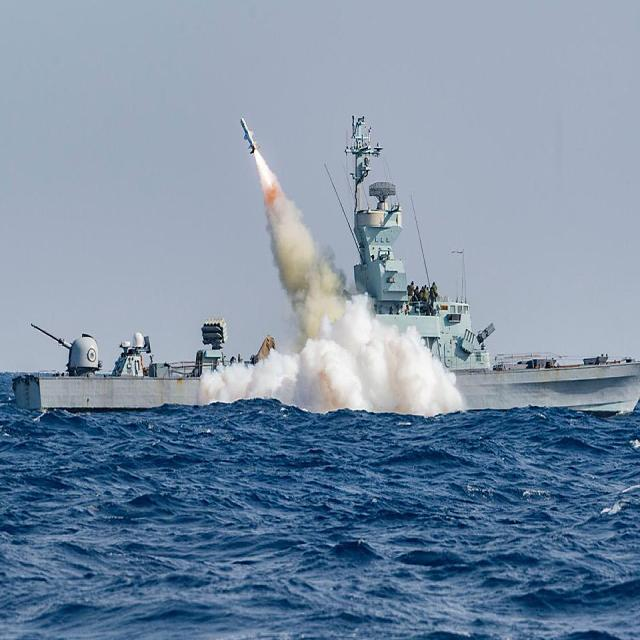navalvessels: (12, 105, 640, 419)
